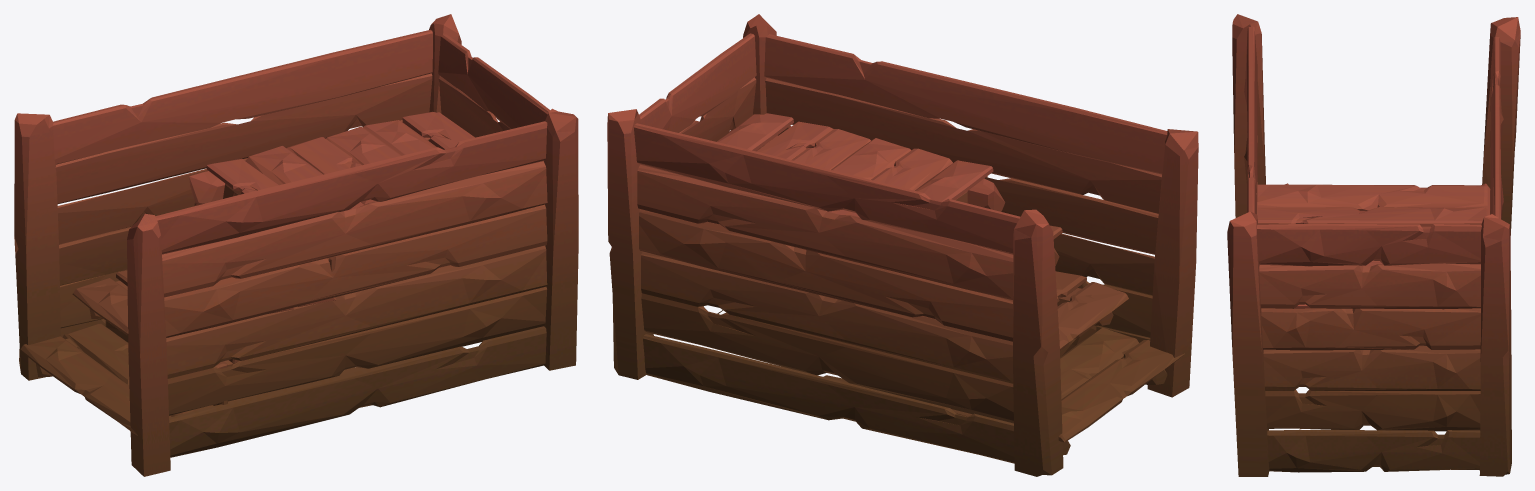
3 renders of one model, left to right at view 1: azimuth 30°, elevation 25°; view 2: azimuth 150°, elevation 25°; view 3: azimuth 270°, elevation 25°, orthographic.
Parts seen in each view (by area): view 1: WoodenWall_TowerLong; view 2: WoodenWall_TowerLong; view 3: WoodenWall_TowerLong.
Part boxes in pixels (bbox=[...]): WoodenWall_TowerLong: bbox=[14, 14, 578, 476]; WoodenWall_TowerLong: bbox=[607, 14, 1198, 476]; WoodenWall_TowerLong: bbox=[1227, 14, 1520, 476].
Bounding box in the file's own units: 200 × 110 × 112.
1 material, 1 textured.
